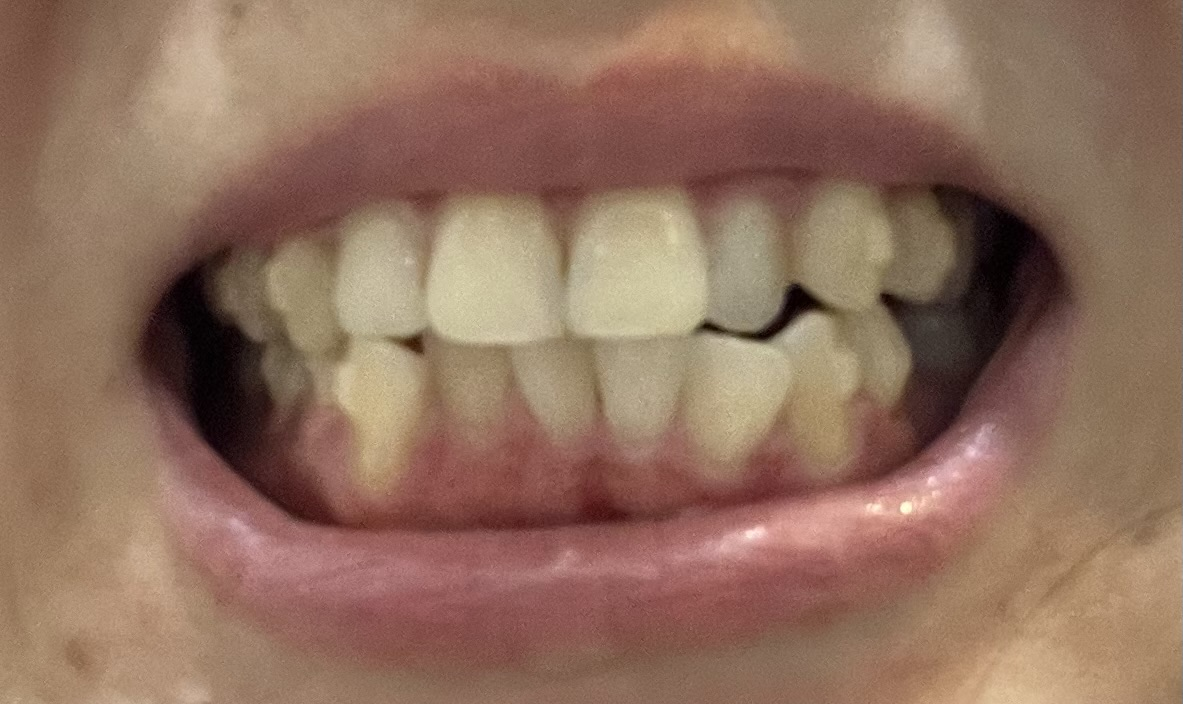teeth: (576, 188, 702, 331), (431, 197, 561, 334), (683, 336, 788, 467), (793, 185, 888, 310), (343, 346, 421, 496), (335, 207, 425, 329), (592, 341, 690, 452), (783, 318, 856, 464), (710, 197, 783, 330), (901, 280, 992, 366), (512, 343, 593, 438), (849, 306, 914, 413), (275, 237, 331, 343), (893, 193, 947, 300), (433, 350, 501, 428), (228, 245, 277, 340), (296, 358, 337, 406), (266, 348, 301, 401)
